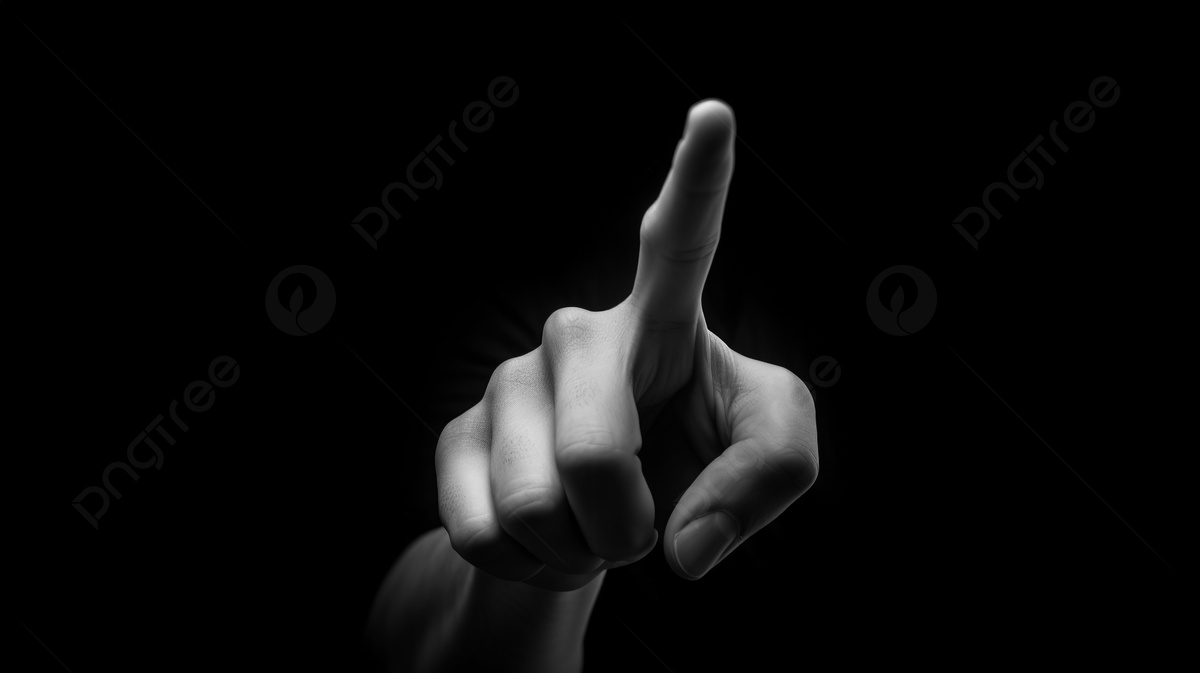pointing_gesture: (430, 100, 821, 577)
